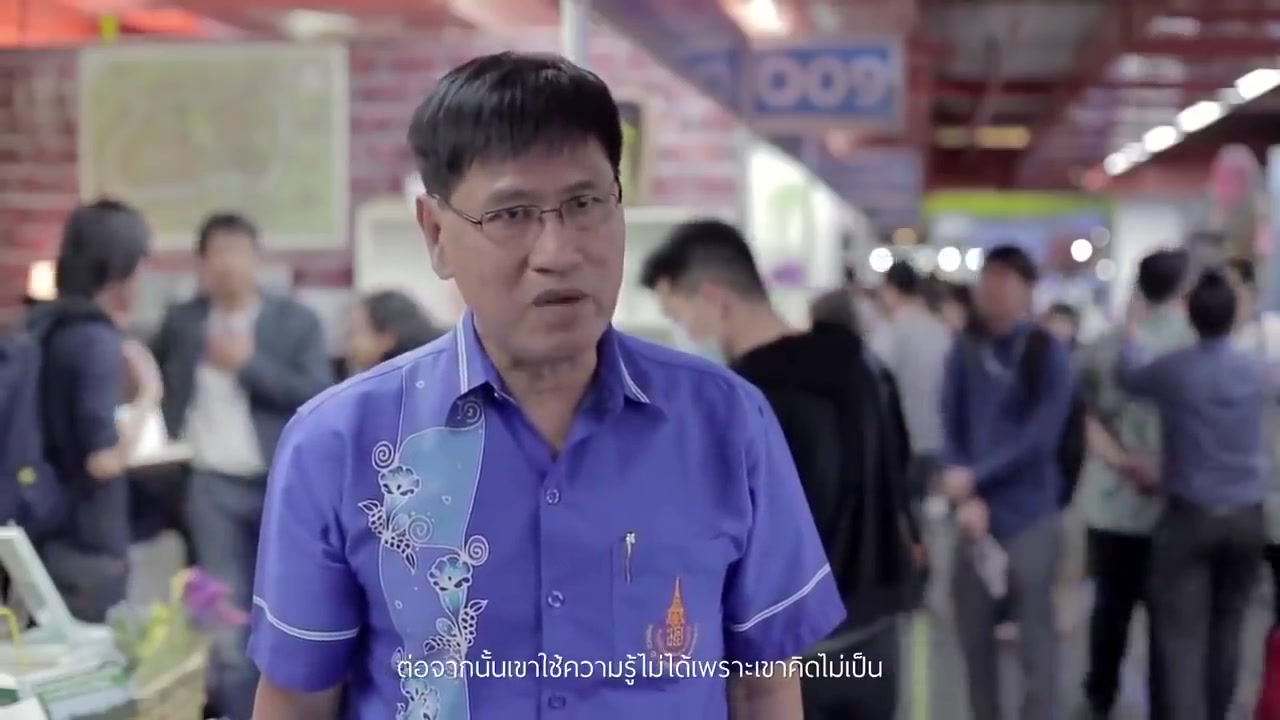text-label: (394, 647, 886, 688)
